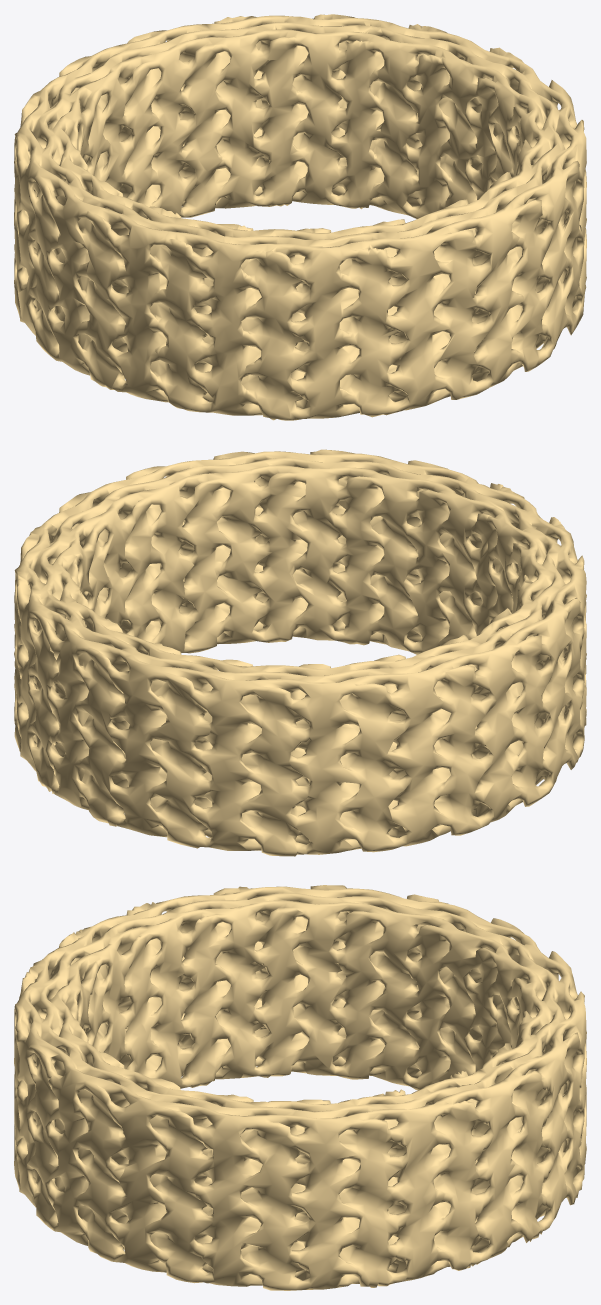
3 renders of one model, top to bottom at view 1: azimuth 30°, elevation 25°; view 2: azimuth 150°, elevation 25°; view 3: azimuth 270°, elevation 25°, orthographic.
Visible parts, largest first — view 1: Ring_Gyroid_web; view 2: Ring_Gyroid_web; view 3: Ring_Gyroid_web.
Boxes of the visible parts, x1=… form: Ring_Gyroid_web: x1=14, y1=14, x2=586, y2=420; Ring_Gyroid_web: x1=14, y1=449, x2=586, y2=856; Ring_Gyroid_web: x1=14, y1=885, x2=586, y2=1290.
Bounding box in the file's own units: 0.0224 × 0.00743 × 0.0224.
